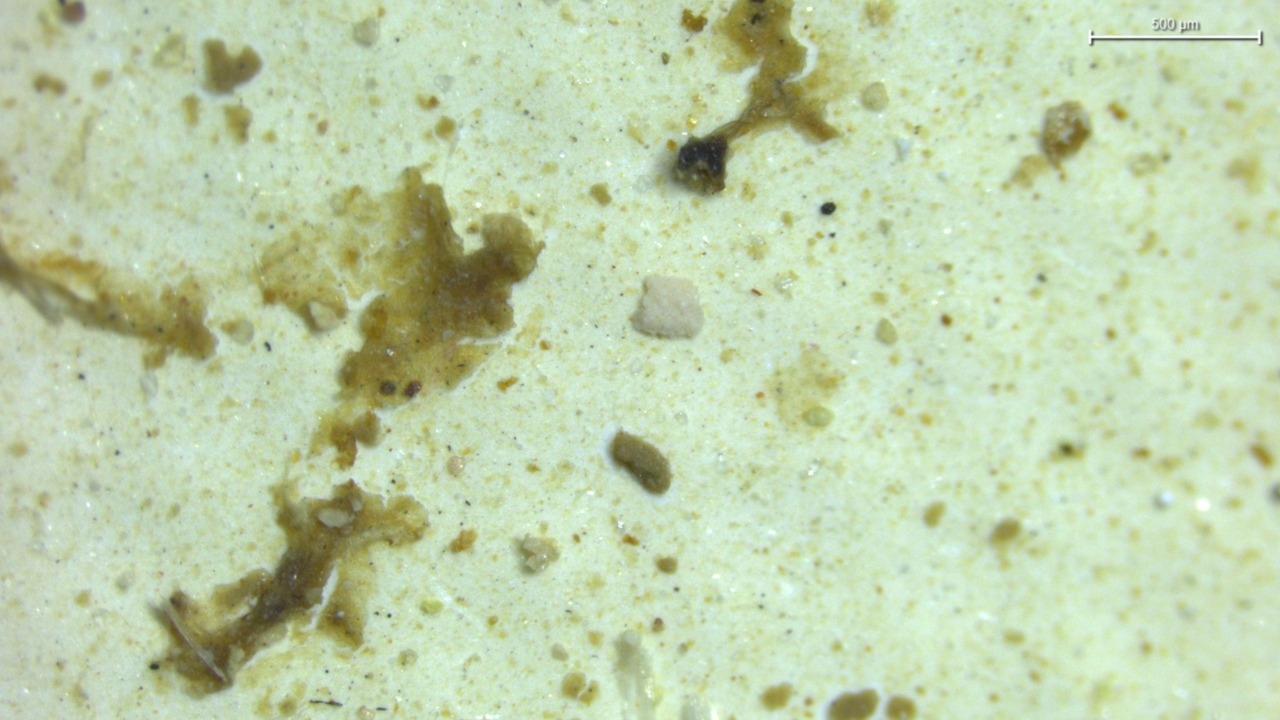microplastic_fragment: (632, 276, 703, 338)
